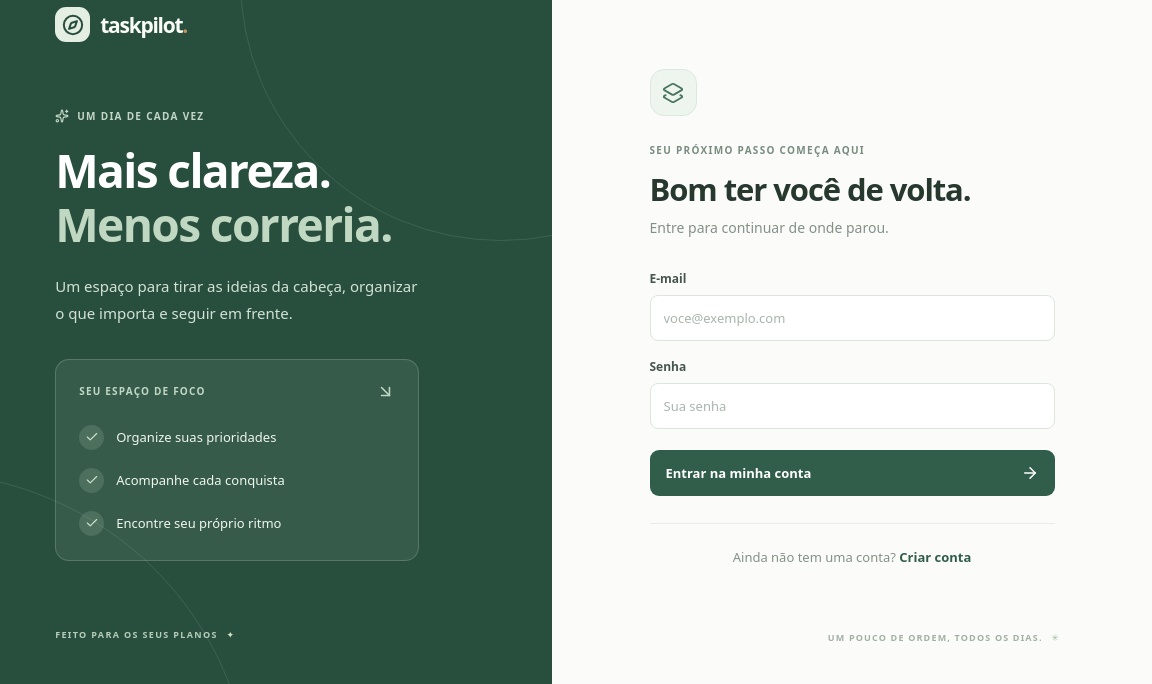
Test: TaskPilot › não destaca como atrasada tarefa concluída com prazo passado
Type "person@example.test" into the field labelled "E-mail" at [852, 318], box x1=650 y1=295 x2=1054 y2=341
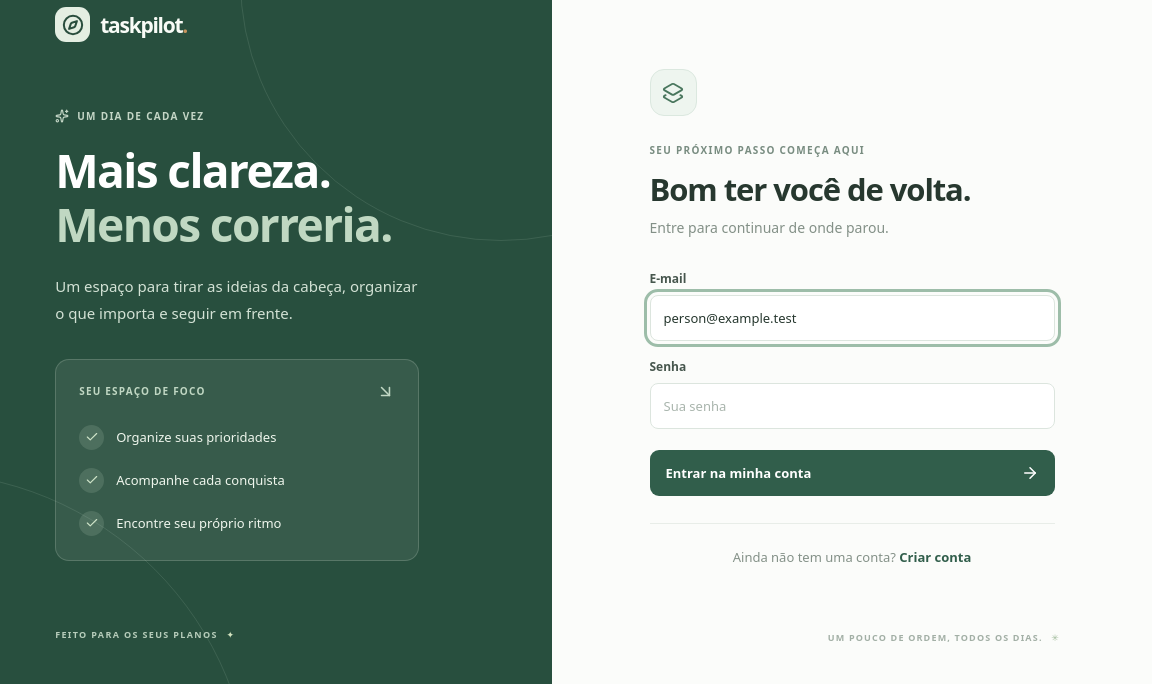
Type "TestPassword_12345" into the password field labelled "Senha" at [852, 406], box x1=650 y1=383 x2=1054 y2=429
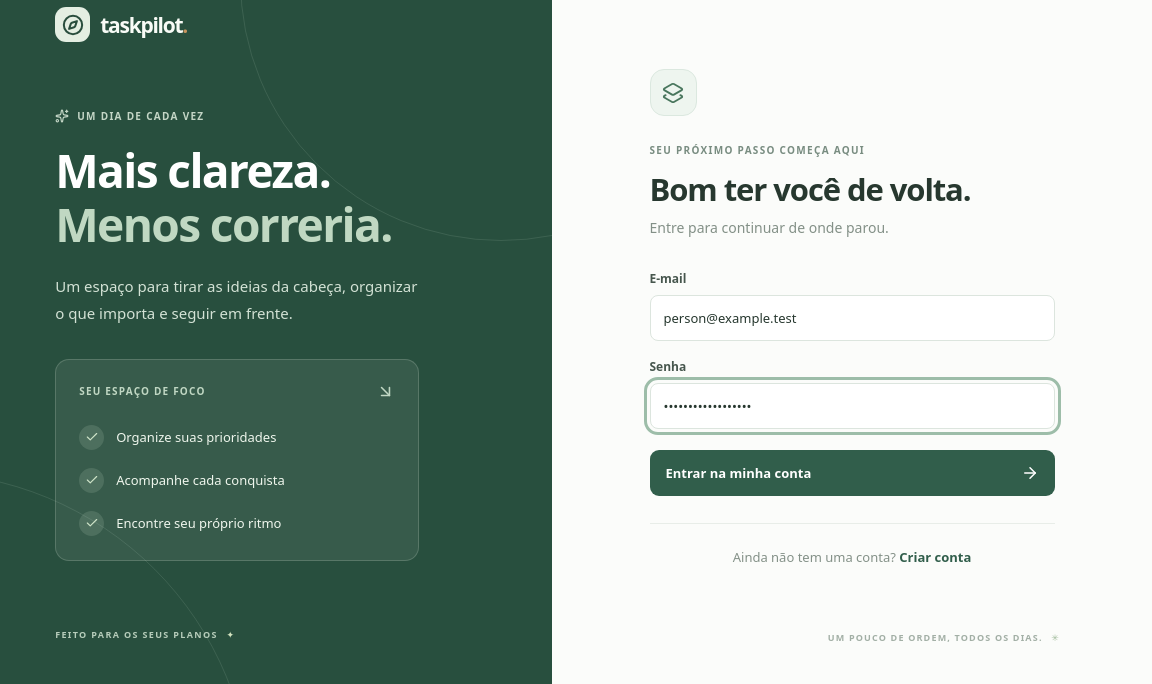
Click the button "Entrar na minha conta" at [738, 473], box x1=650 y1=450 x2=1054 y2=496
(page scrolled)
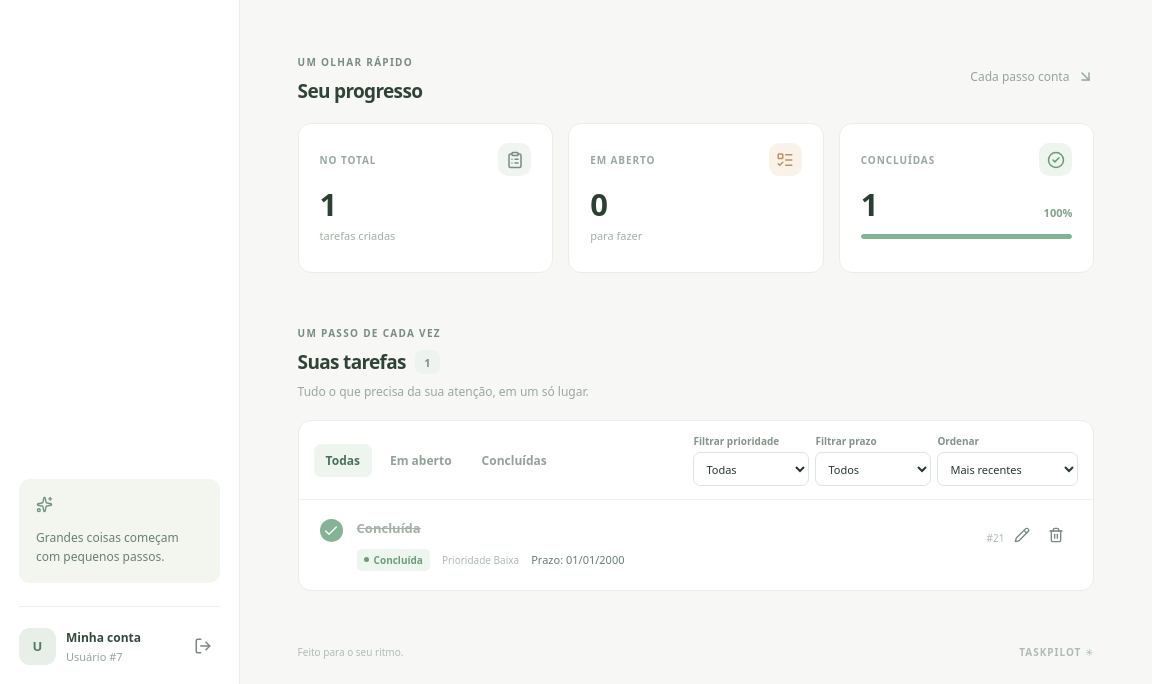
Check: the text "Prazo: 01/01/2000" is shown, box x1=531 y1=552 x2=624 y2=568
